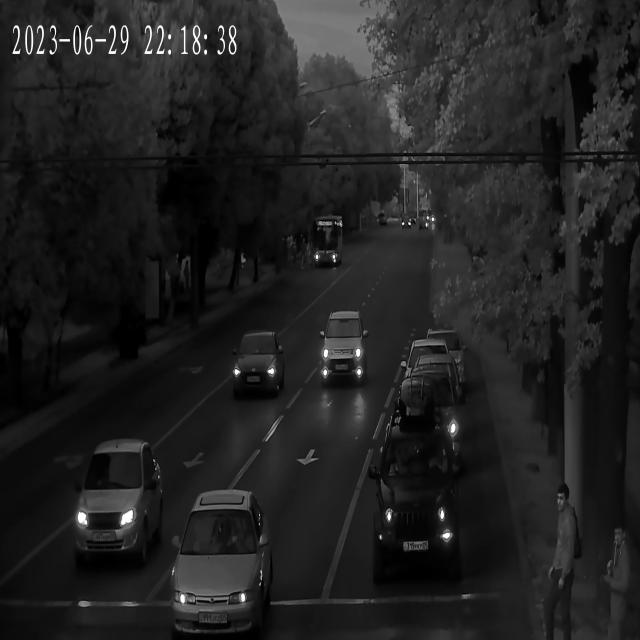Bus: (312, 214, 345, 272)
Car: (174, 489, 270, 640), (374, 431, 456, 584), (71, 438, 163, 563), (412, 349, 462, 444), (230, 323, 287, 406), (320, 310, 366, 392), (407, 337, 447, 426), (428, 321, 468, 400)
